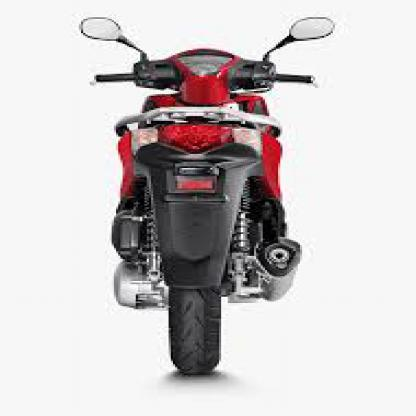Motorcycle: (65, 6, 344, 378)
